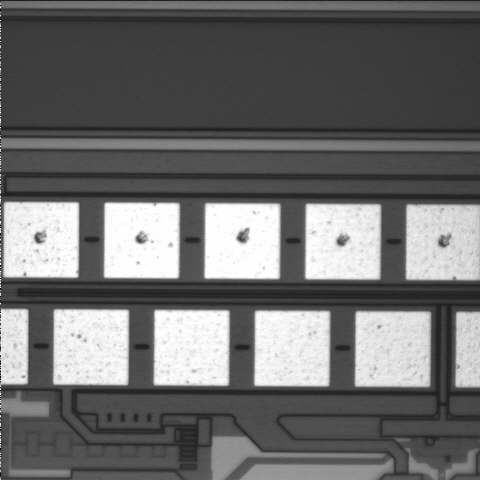pad: (3, 202, 79, 278), (204, 203, 280, 279), (53, 309, 129, 385), (104, 203, 180, 278), (305, 204, 381, 279), (154, 310, 229, 386), (254, 311, 330, 386), (355, 312, 430, 387)
